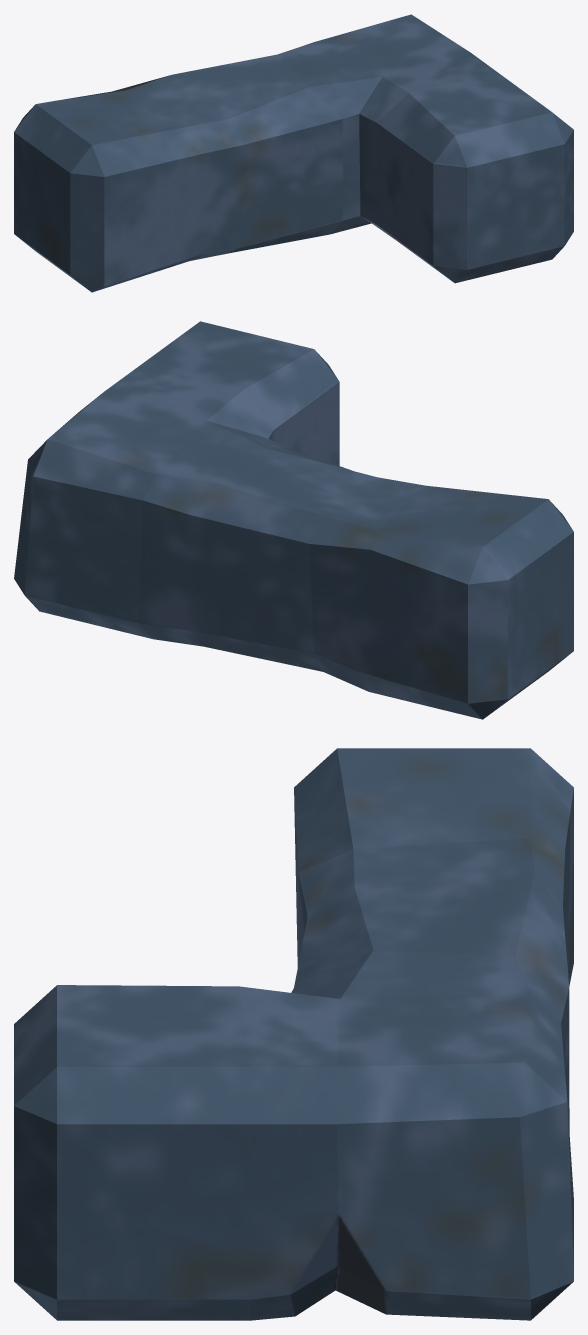
The model's file is Tetris_2.fbx.
The picture shows the model from 3 angles, top to bottom: view 1: azimuth 30°, elevation 25°; view 2: azimuth 150°, elevation 25°; view 3: azimuth 270°, elevation 25°; orthographic projection. The views are drawn at different scales.
Visible parts, largest first — view 1: Tetris_1.007; view 2: Tetris_1.007; view 3: Tetris_1.007.
Part boxes in pixels (x1=…): Tetris_1.007: x1=14, y1=14, x2=573, y2=292; Tetris_1.007: x1=14, y1=321, x2=573, y2=719; Tetris_1.007: x1=14, y1=748, x2=573, y2=1320.
Size of the model in its own units: 602 by 204 by 400.
